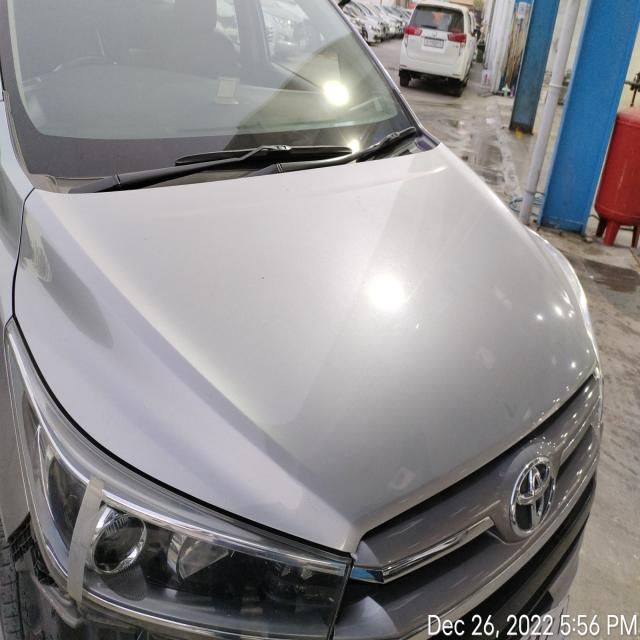damage: (4, 514, 213, 640)
